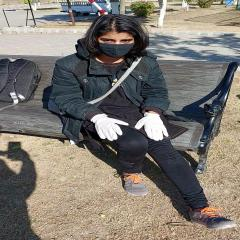gloved: (90, 114, 128, 141), (136, 111, 170, 141)
